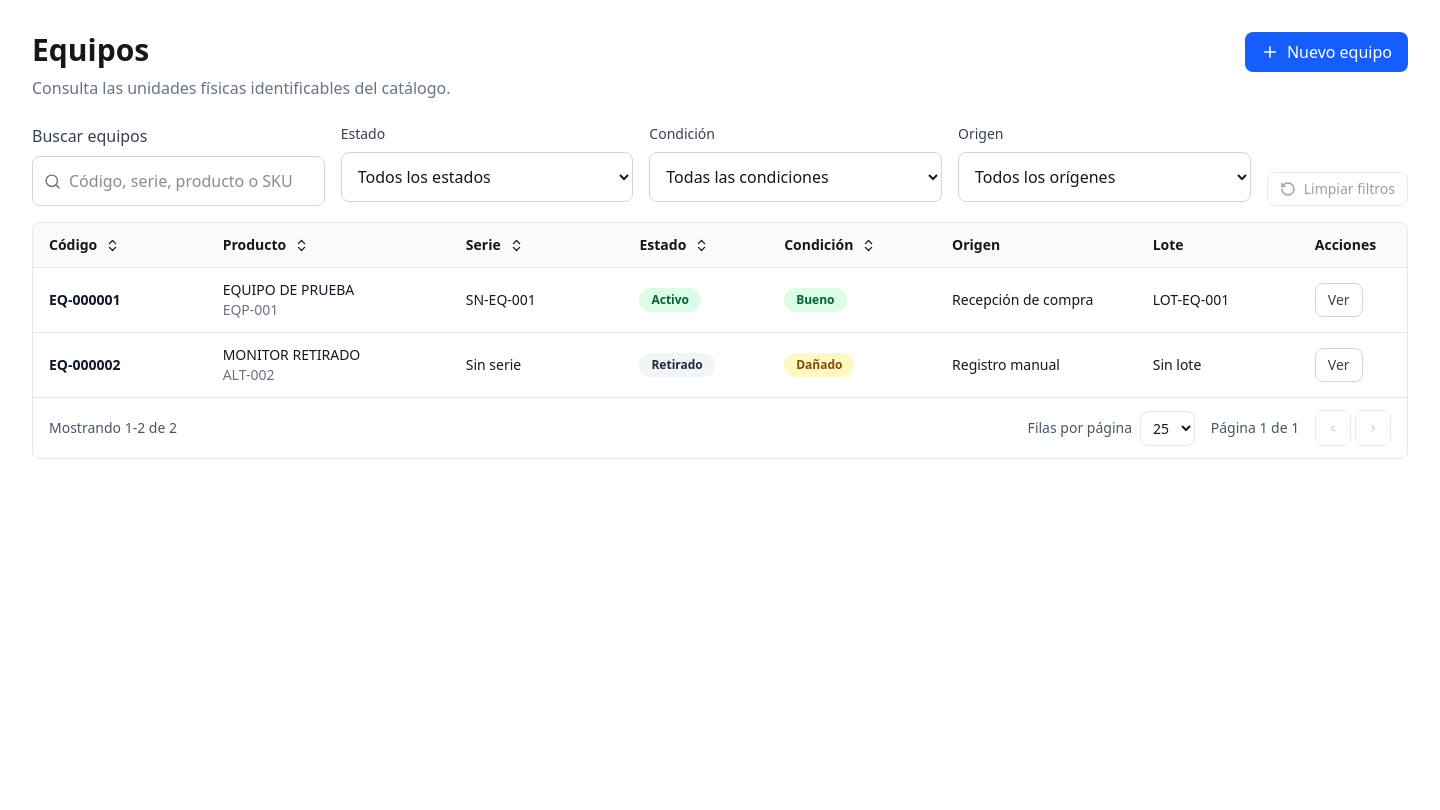
Test: EquipmentPage › abre, cancela y reinicia el formulario de nuevo equipo
This screenshot has width=1440, height=810.
Expected: the text "EQ-000001" is shown, x1=49 y1=290 x2=120 y2=309
Click the button "Nuevo equipo" at (1326, 52), box x1=1245 y1=32 x2=1408 y2=72
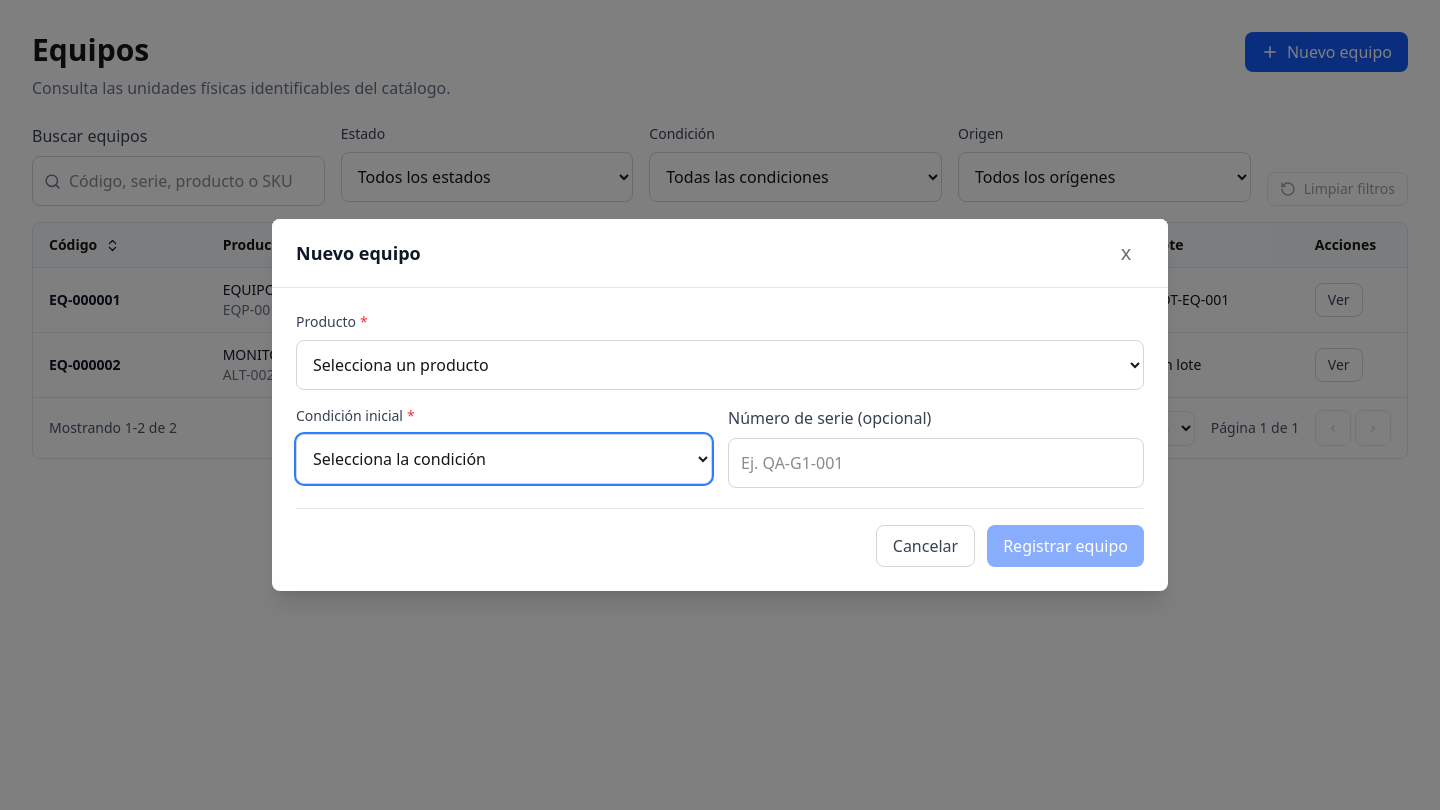
Select "EQUIPO DE PRUEBA · EQP-001" in the dropdown labelled "Producto*" at (720, 365), box x1=296 y1=340 x2=1144 y2=390
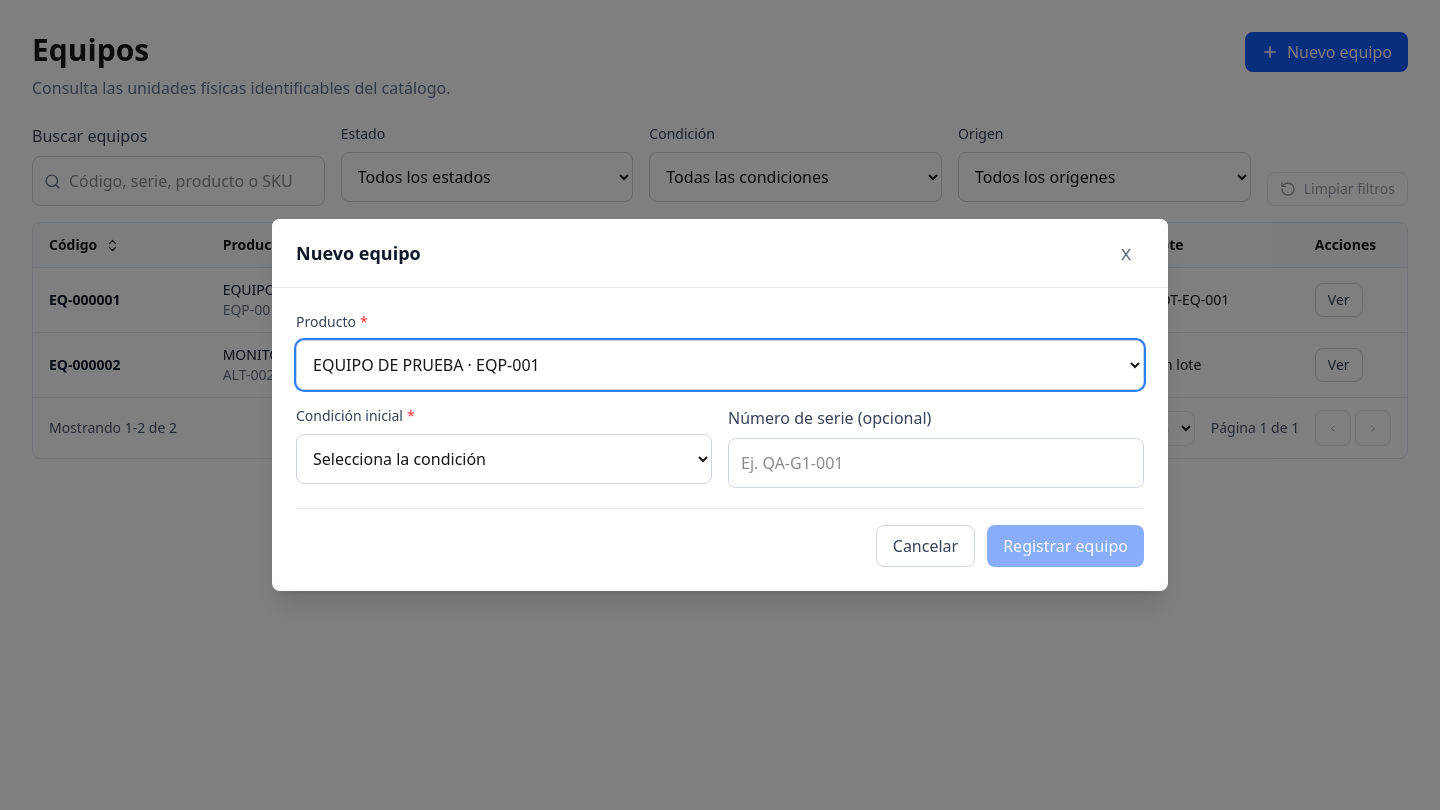
Select "Bueno" in the dropdown labelled "Condición inicial*" at (504, 459), box x1=296 y1=434 x2=712 y2=484
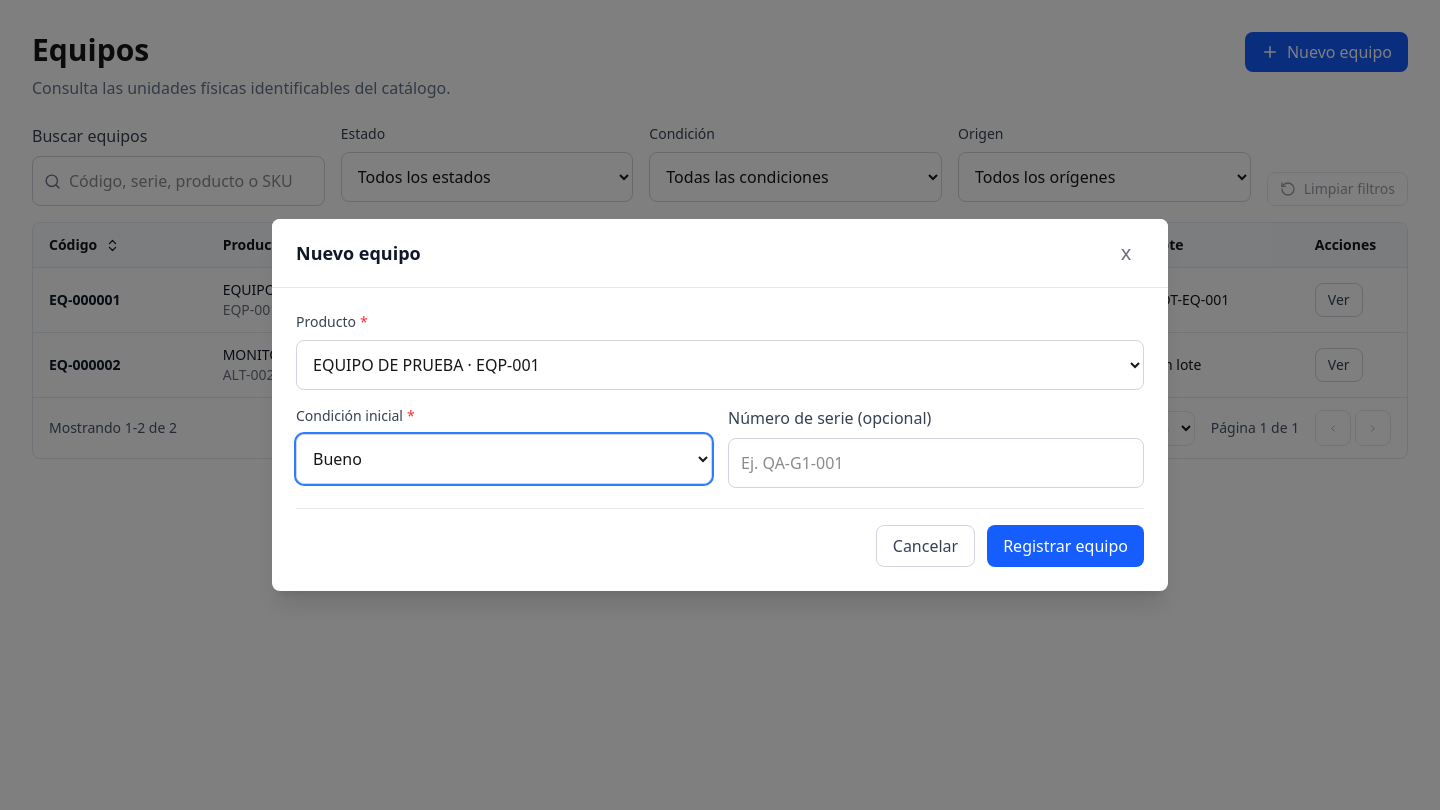
Type "SERIE-TEMPORAL" into the field labelled "Número de serie (opcional)" at (936, 463), box x1=728 y1=438 x2=1144 y2=488
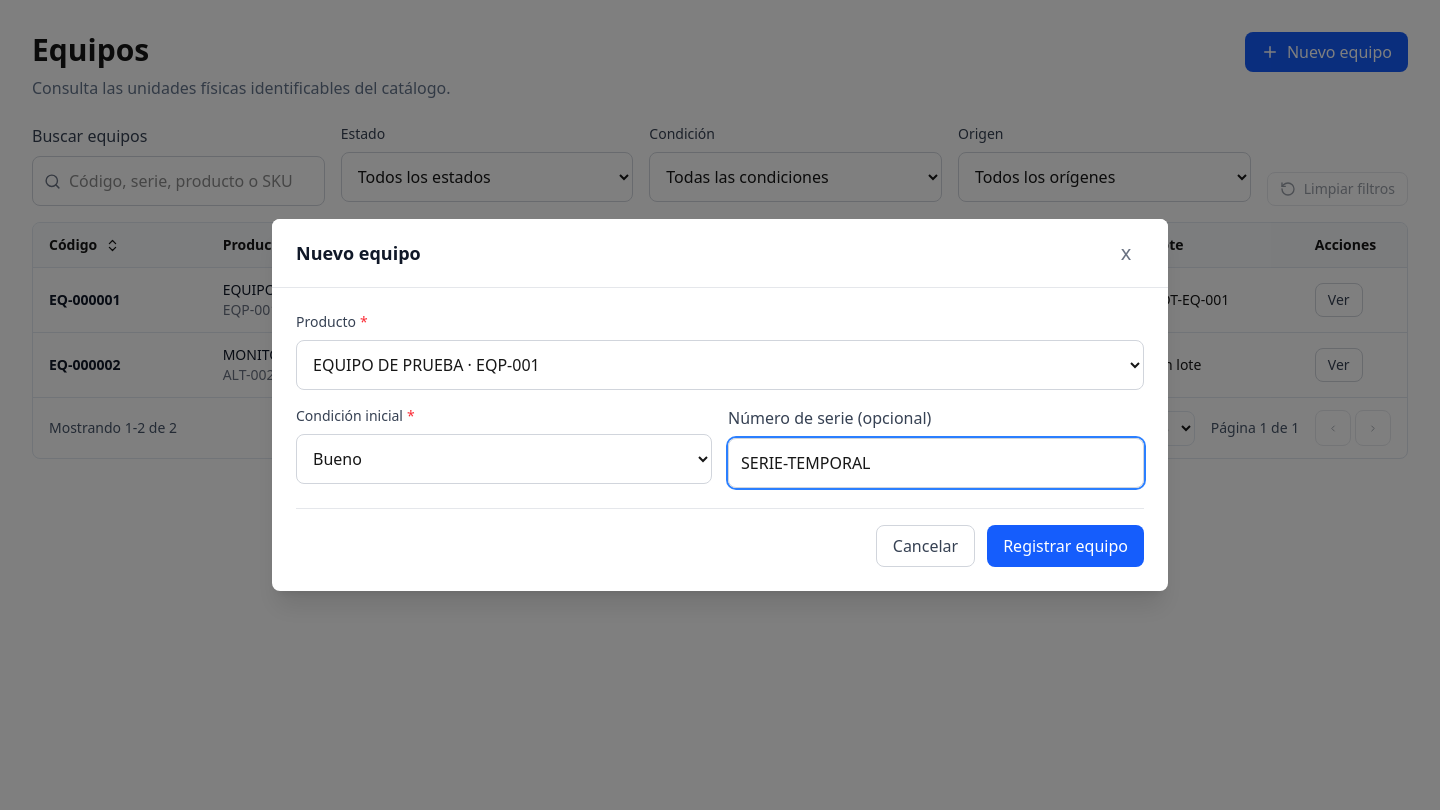
Click the button "Cancelar" at (926, 546), box x1=876 y1=525 x2=975 y2=567
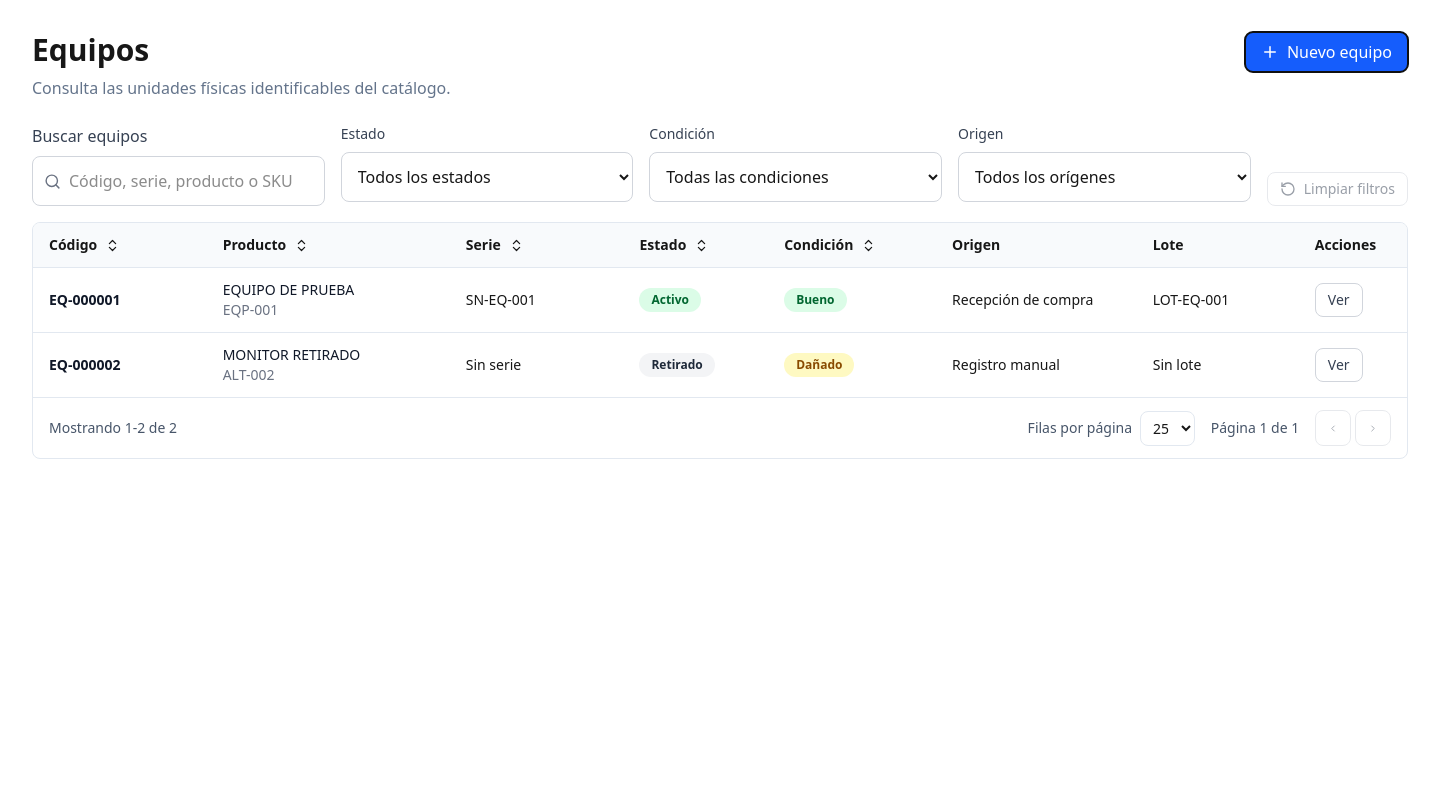
Click the button "Nuevo equipo" at (1326, 52), box x1=1245 y1=32 x2=1408 y2=72
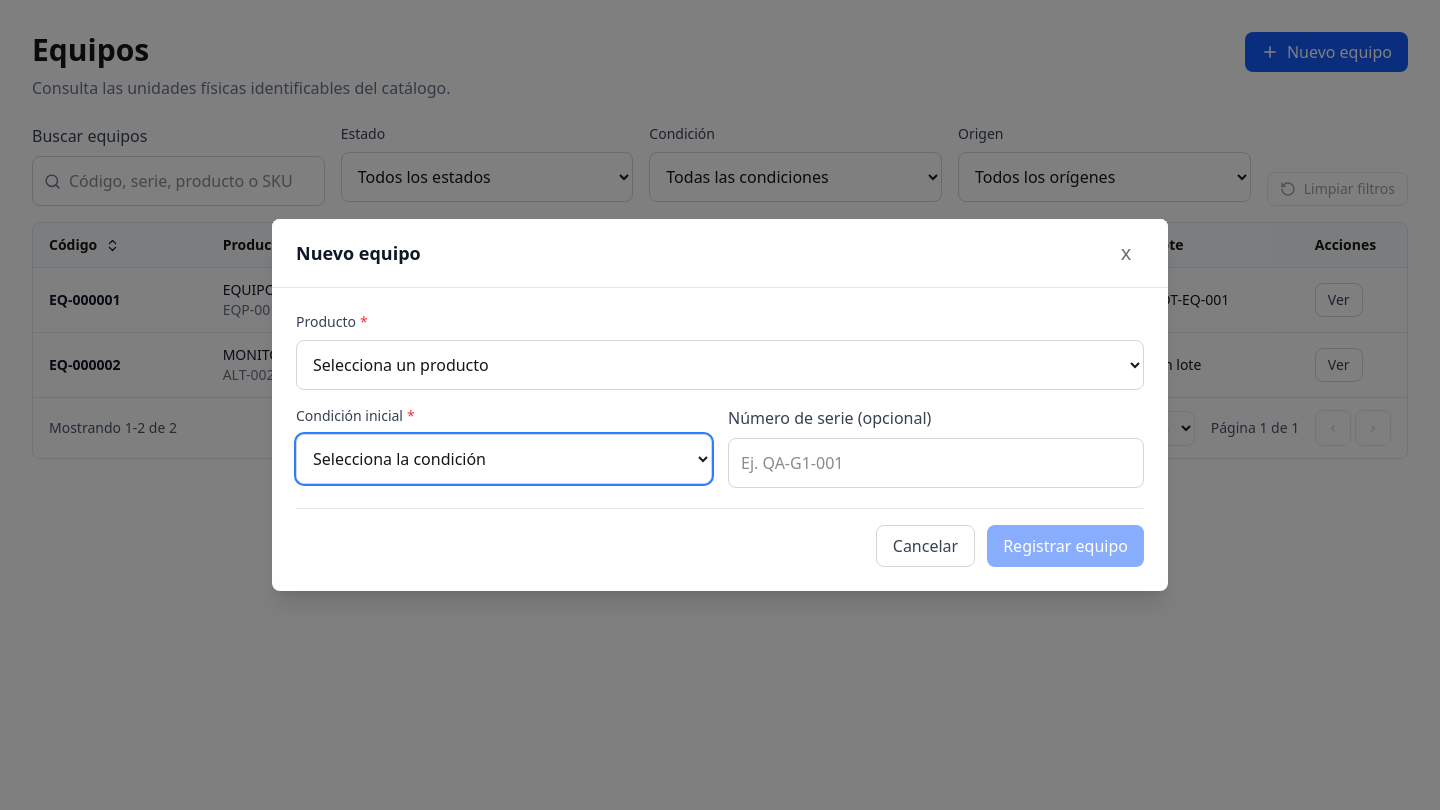
Expected: the dropdown labelled "Producto*" shows "Selecciona un producto", x1=296 y1=340 x2=1144 y2=390
Expected: the dropdown labelled "Condición inicial*" shows "Selecciona la condición", x1=296 y1=434 x2=712 y2=484
Expected: the field labelled "Número de serie (opcional)" is empty, x1=728 y1=438 x2=1144 y2=488
